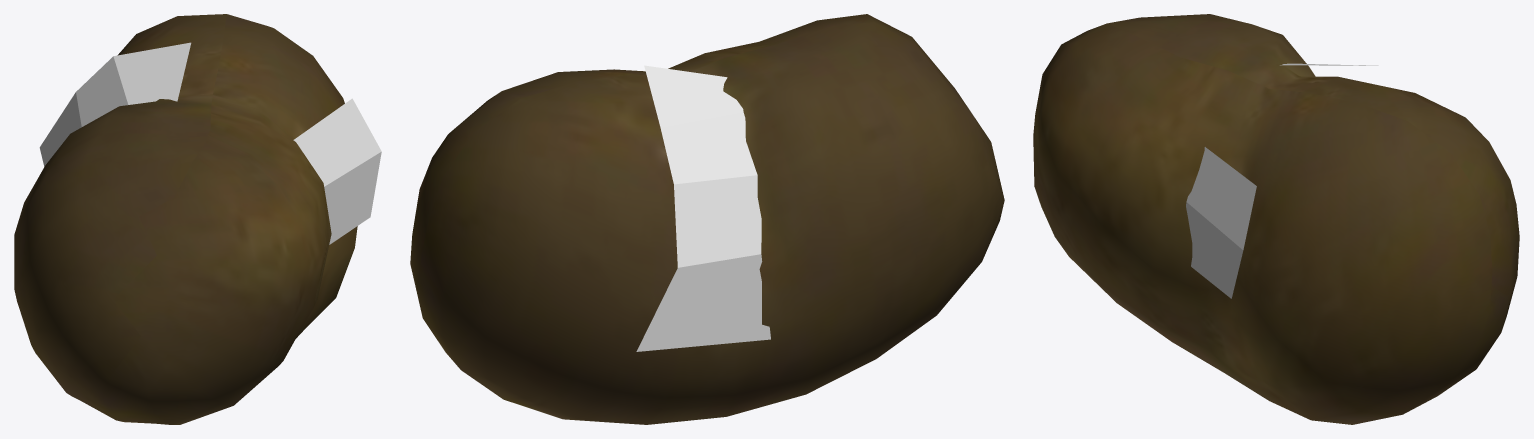
File: horsedung.worldmodel.glb
3 views of the same model, side by side, from view 1: azimuth 30°, elevation 25°; view 2: azimuth 150°, elevation 25°; view 3: azimuth 270°, elevation 25° (orthographic). The views are drawn at different scales.
Visible parts, largest first — view 1: horsedung.worldmodel; view 2: horsedung.worldmodel; view 3: horsedung.worldmodel.
Part boxes in pixels (left/top/right/bottom): horsedung.worldmodel: left=14, top=14, right=381, bottom=424; horsedung.worldmodel: left=410, top=14, right=1004, bottom=424; horsedung.worldmodel: left=1033, top=14, right=1519, bottom=424.
Bounding box in the file's own units: 0.1631 × 0.1275 × 0.1708.
1 material, 1 textured.
